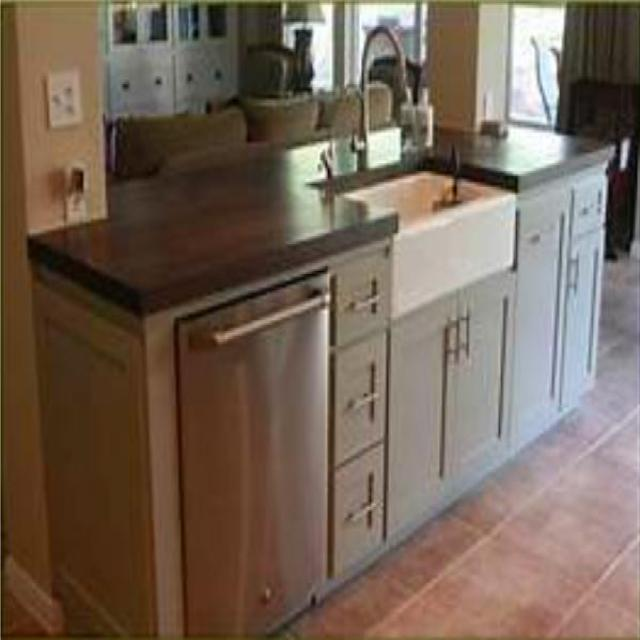dishwasher: (174, 272, 332, 638)
